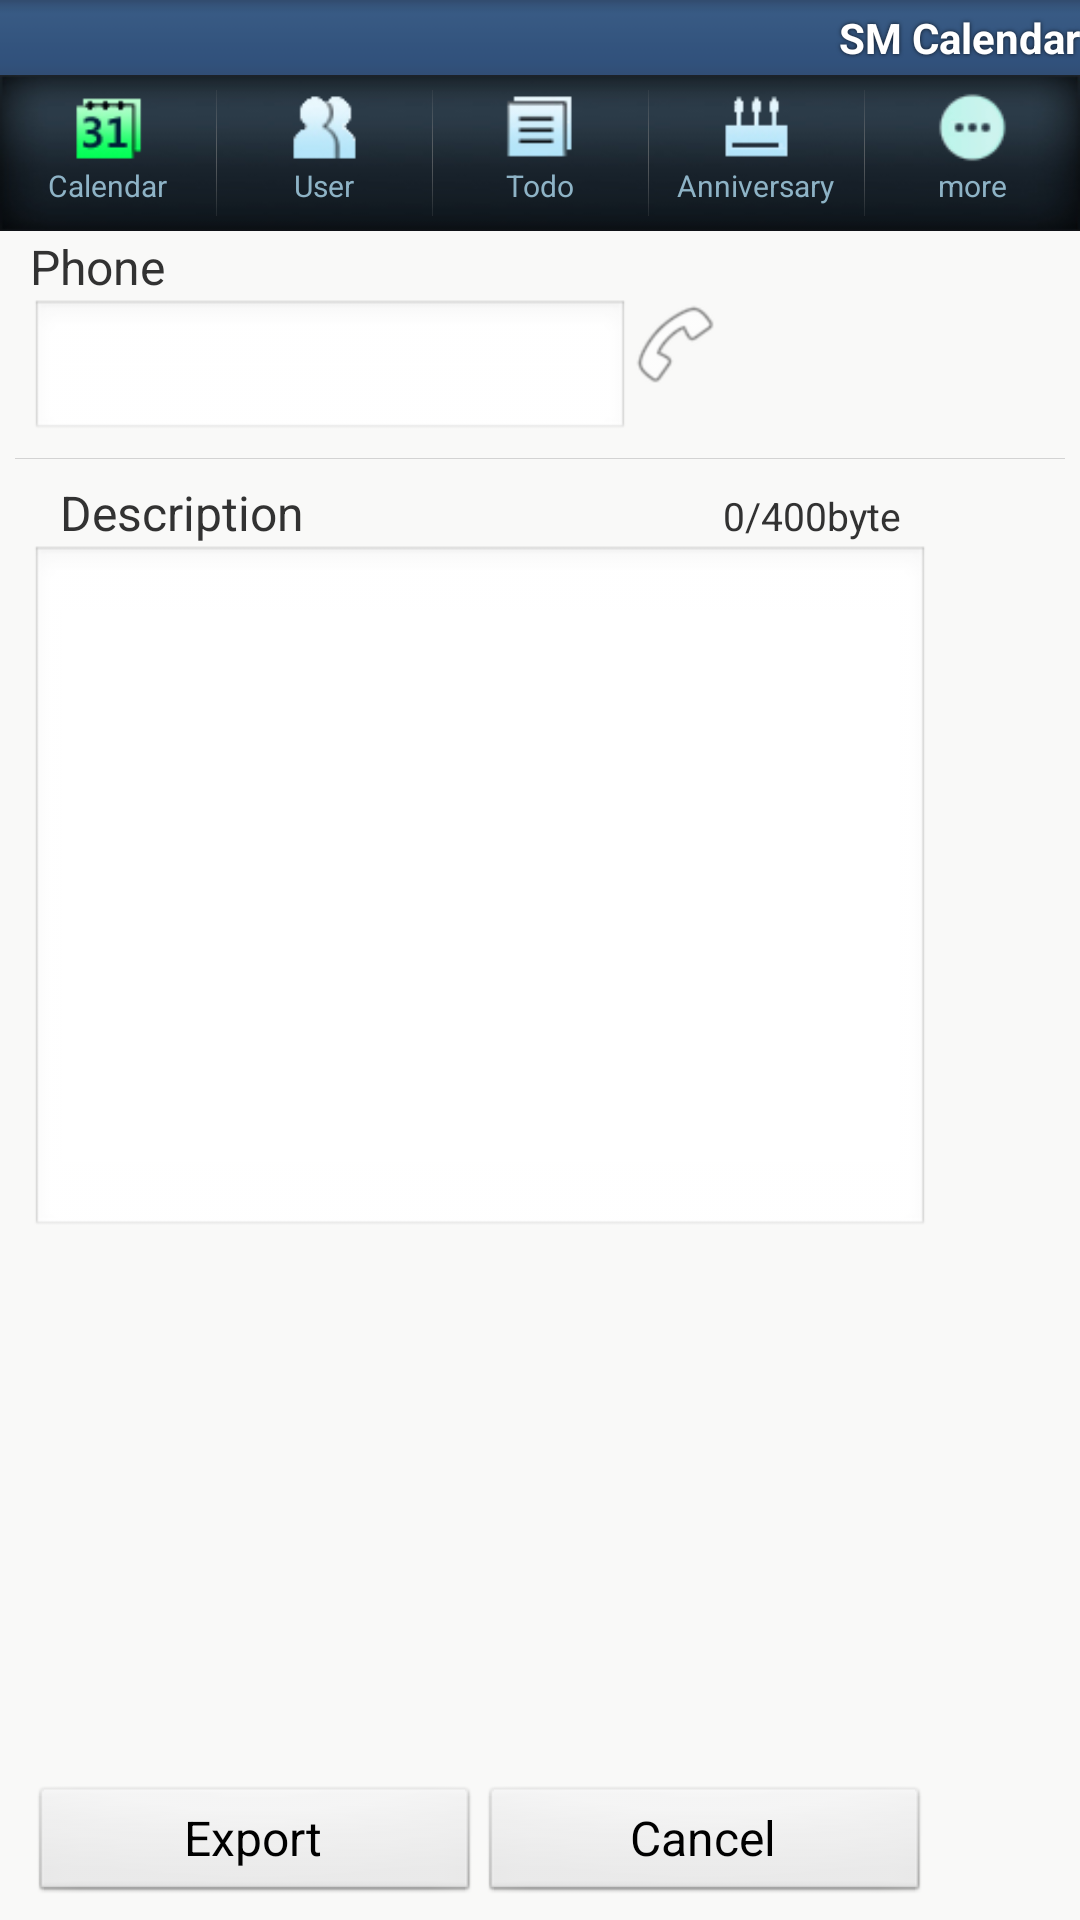

Screen size 1080px x 1920px. Icon name, then its box in pixels as (x1, y1, x2, y2):
phone call: (638, 307, 713, 382)
